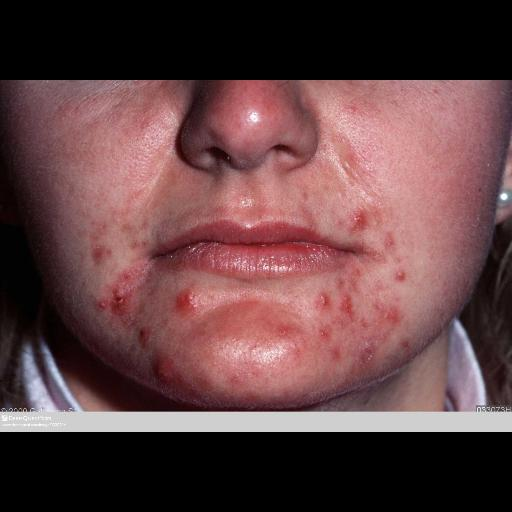Skin_Lesion: (358, 310, 392, 374), (89, 233, 123, 273), (102, 281, 134, 321), (172, 280, 204, 320), (349, 198, 379, 238), (298, 190, 320, 230), (152, 355, 176, 385), (134, 325, 156, 351), (340, 290, 356, 322), (383, 226, 397, 252), (319, 290, 331, 312), (275, 326, 291, 340), (392, 263, 404, 281), (352, 264, 364, 280), (318, 328, 330, 342)
